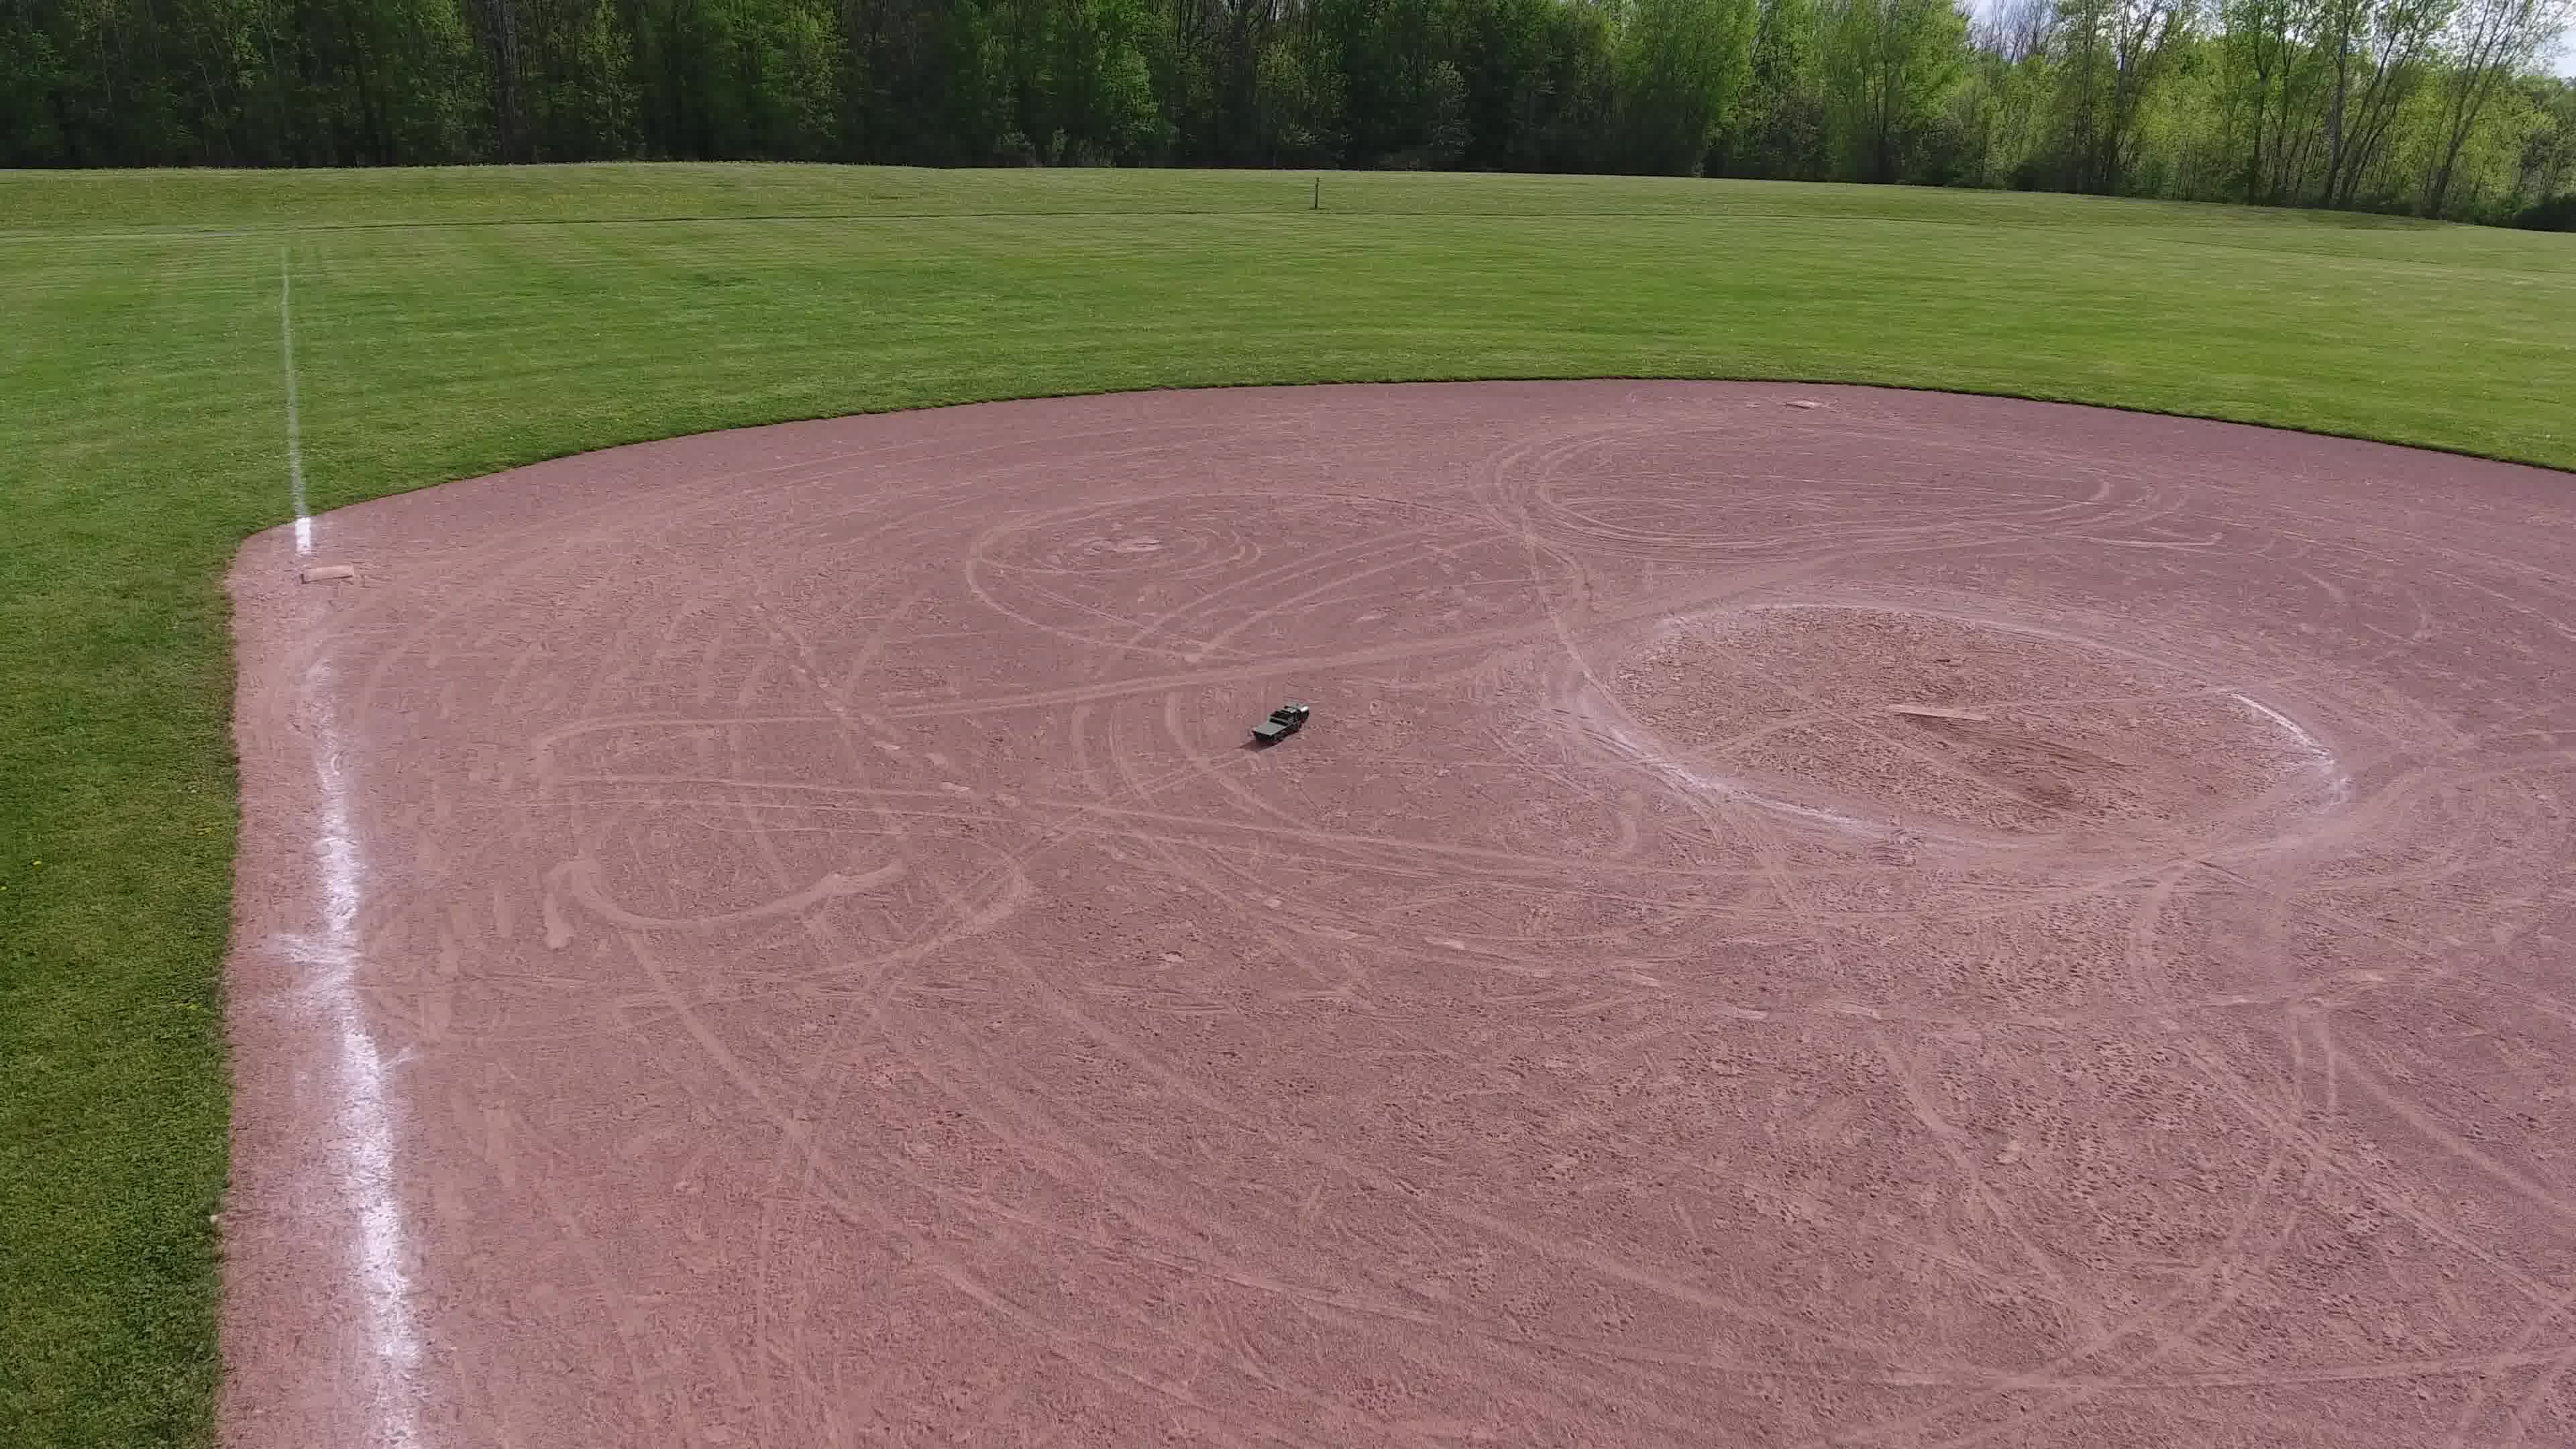transporter9: (1247, 699, 1313, 748)
